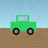vehicle: (11, 15, 36, 35)
